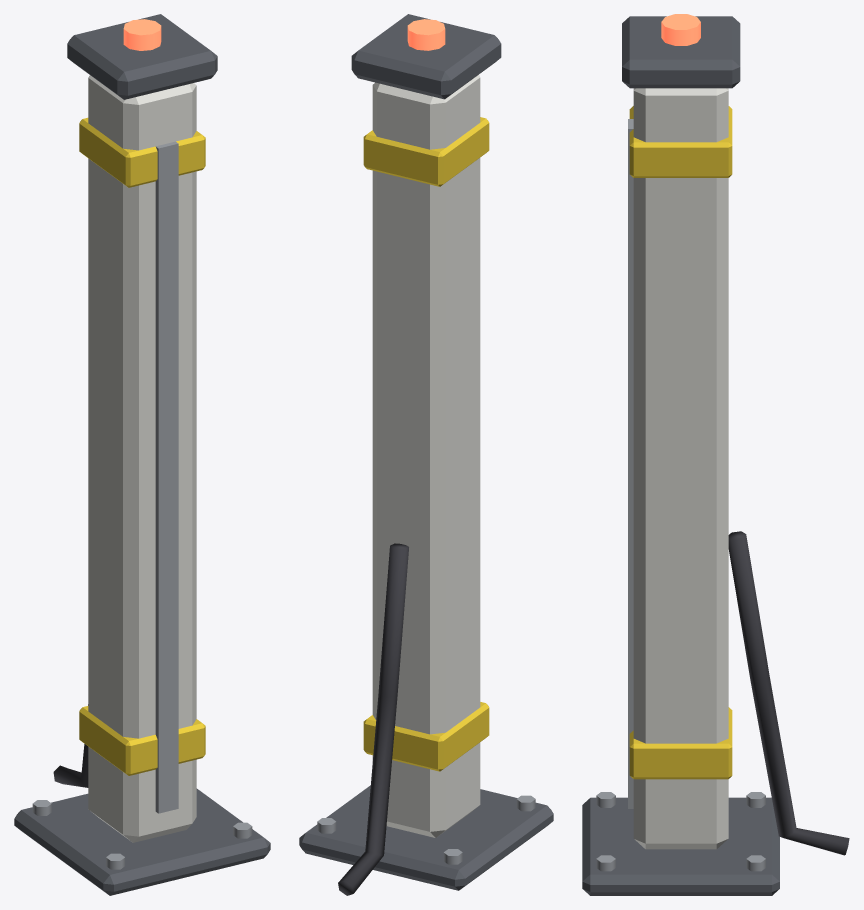
Rendered from trap_laser_post.glb.
3 renders of one model, left to right at view 1: azimuth 30°, elevation 25°; view 2: azimuth 150°, elevation 25°; view 3: azimuth 270°, elevation 25°, orthographic. The views are drawn at different scales.
Parts seen in each view (by area): view 1: trap_laser_post; view 2: trap_laser_post; view 3: trap_laser_post.
Part boxes in pixels (box(x1,y1,x2,y2)): trap_laser_post: box(14, 14, 270, 895); trap_laser_post: box(299, 14, 553, 895); trap_laser_post: box(582, 14, 849, 895).
Size of the model in its own units: 0.5 by 2.34 by 0.6764.
